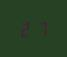seven: (33, 20, 46, 36)
two: (19, 20, 32, 37)
